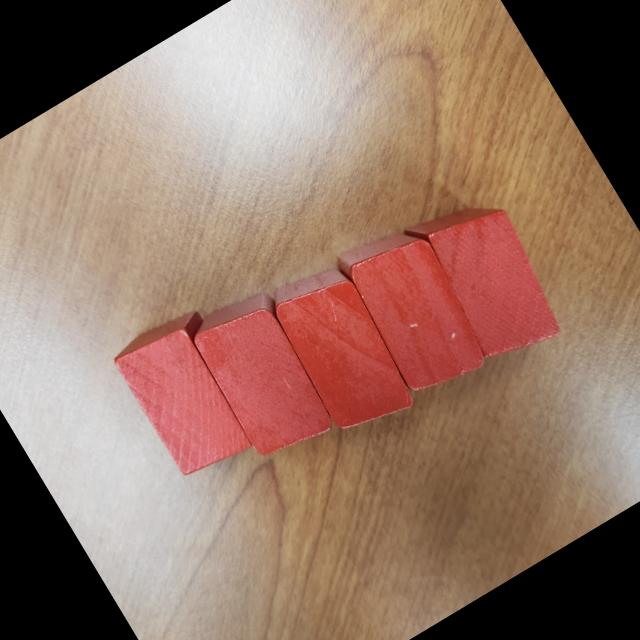red: (402, 178, 574, 376), (330, 210, 500, 408), (107, 301, 274, 488), (263, 259, 425, 448), (182, 282, 344, 467)
